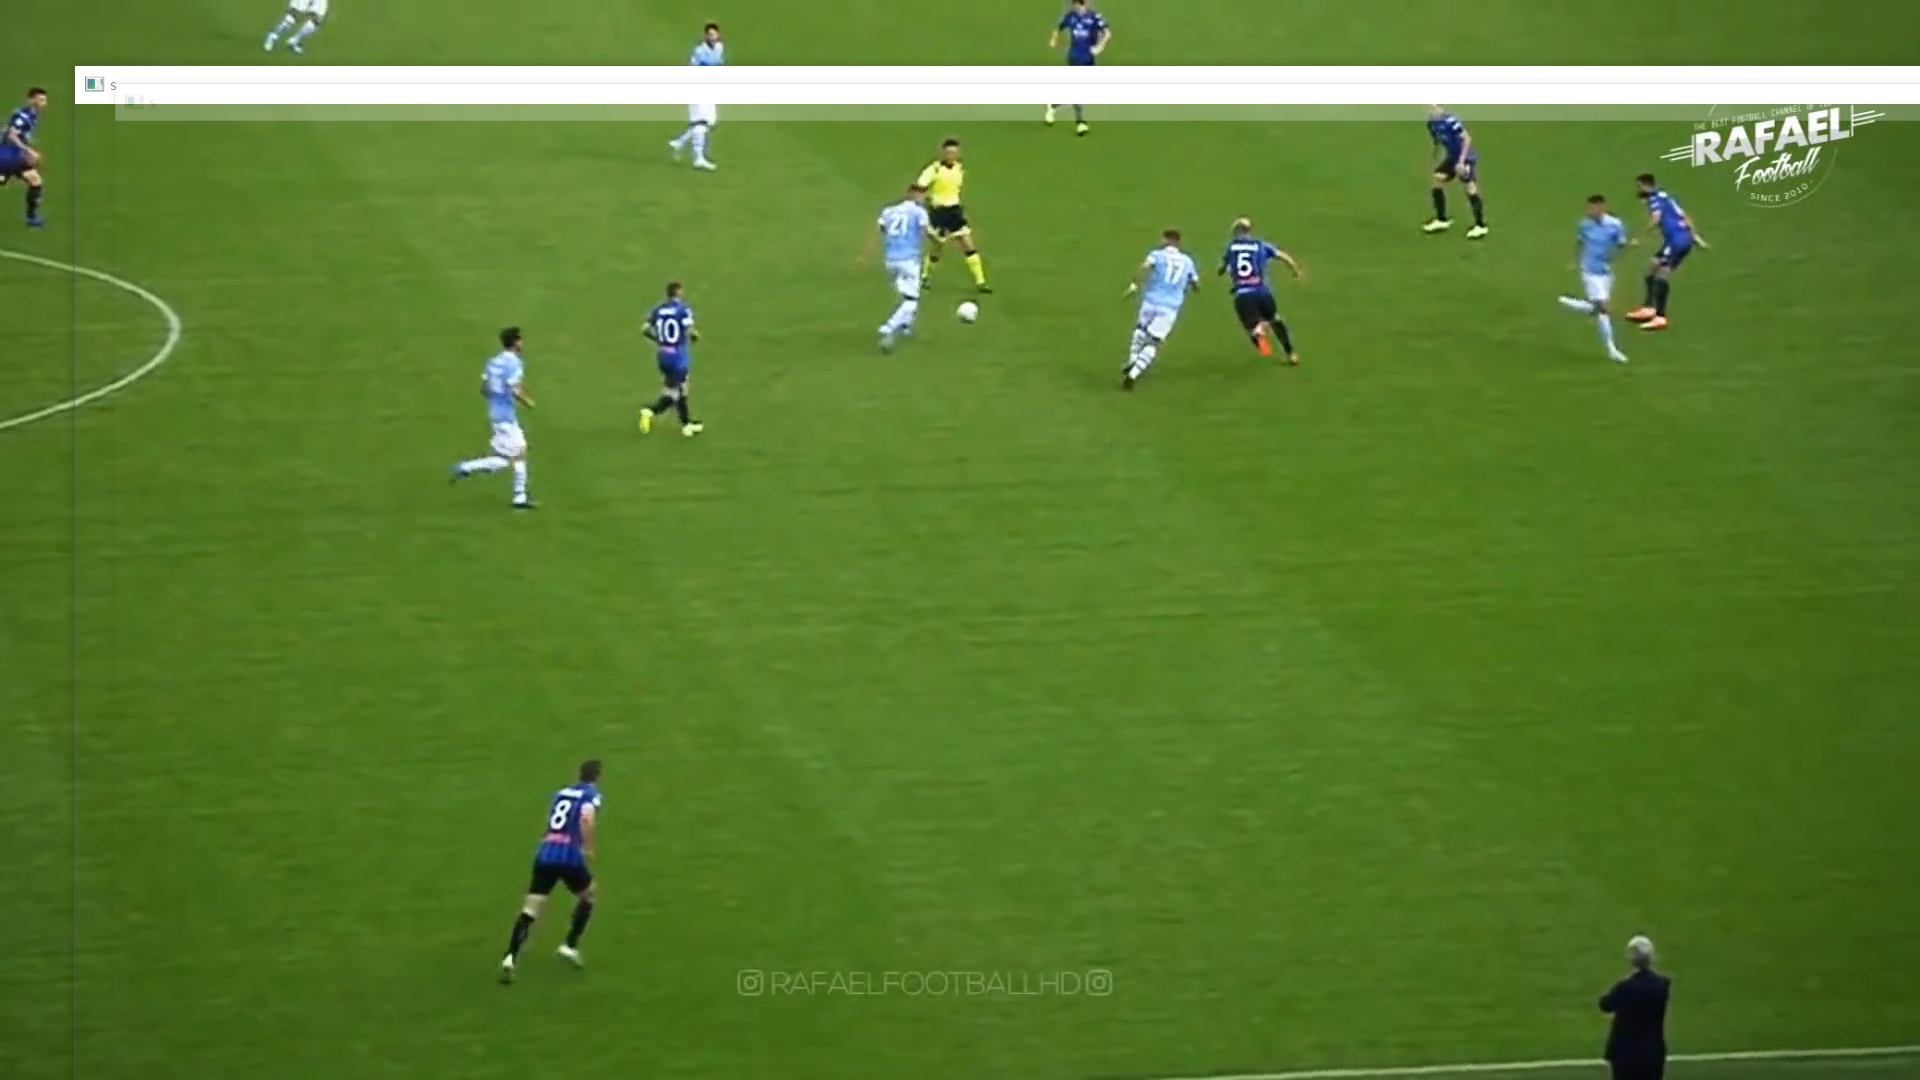ft: (953, 299, 981, 324)
